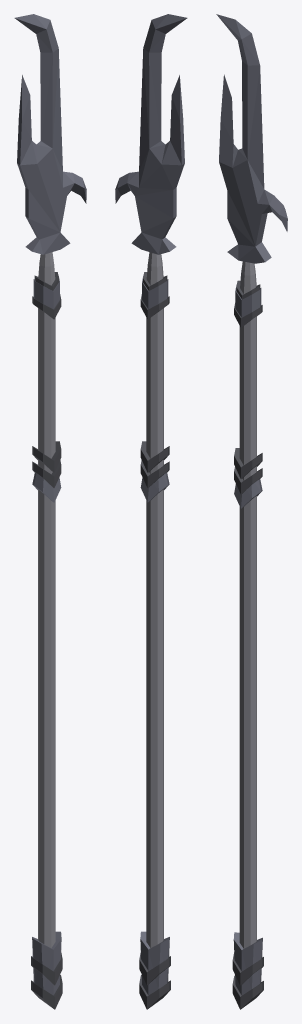
The model's file is Lanca_B16.fbx.
The picture shows the model from 3 angles, left to right: view 1: azimuth 30°, elevation 25°; view 2: azimuth 150°, elevation 25°; view 3: azimuth 330°, elevation 25°; orthographic projection.
Visible parts, largest first — view 1: polearm_16; view 2: polearm_16; view 3: polearm_16.
Boxes of the visible parts, <box> form: polearm_16: <box>14,14,86,1009</box>; polearm_16: <box>115,14,187,1009</box>; polearm_16: <box>216,14,287,1009</box>.
Bounding box in the file's own units: 15.82 × 207 × 6.21.
